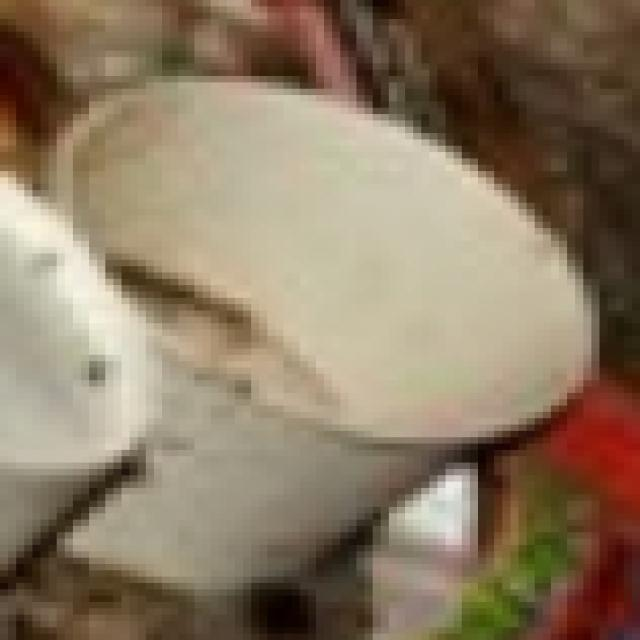paper cup: (35, 0, 640, 606)
